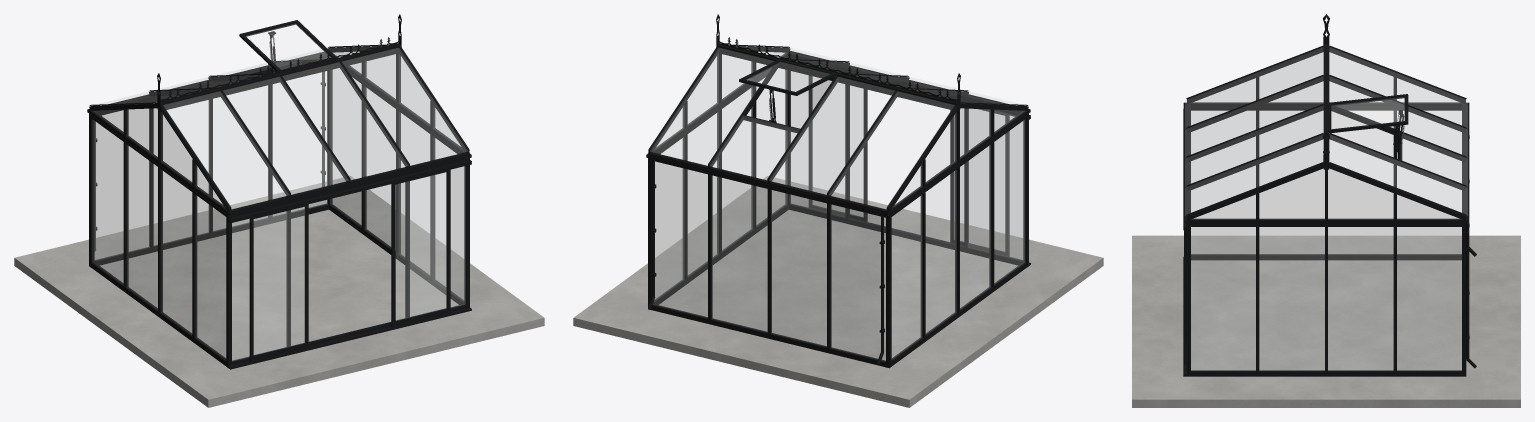
Rendered from sg-rect-10-2-10-2-decor.glb.
3 views of the same model, side by side, from view 1: azimuth 30°, elevation 25°; view 2: azimuth 150°, elevation 25°; view 3: azimuth 270°, elevation 25° (orthographic).
Visible parts, largest first — view 1: scandiglas-rect-10-2-10-2-decor; view 2: scandiglas-rect-10-2-10-2-decor; view 3: scandiglas-rect-10-2-10-2-decor.
Part boxes in pixels (x1,y1,x2,y2): scandiglas-rect-10-2-10-2-decor: [14, 14, 544, 407]; scandiglas-rect-10-2-10-2-decor: [573, 14, 1103, 407]; scandiglas-rect-10-2-10-2-decor: [1132, 14, 1520, 407].
Size of the model in its own units: 4.38 by 3.14 by 4.38.
5 materials, 1 textured.
